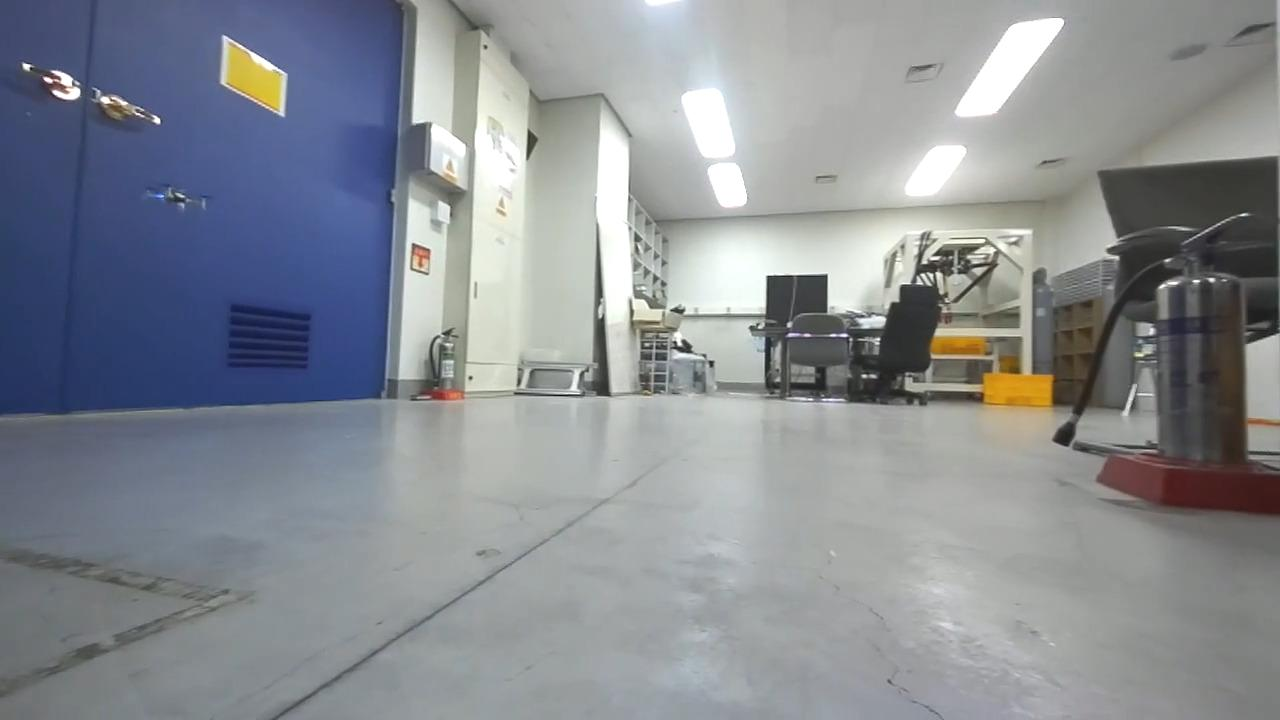crazyflie: (139, 180, 213, 216)
